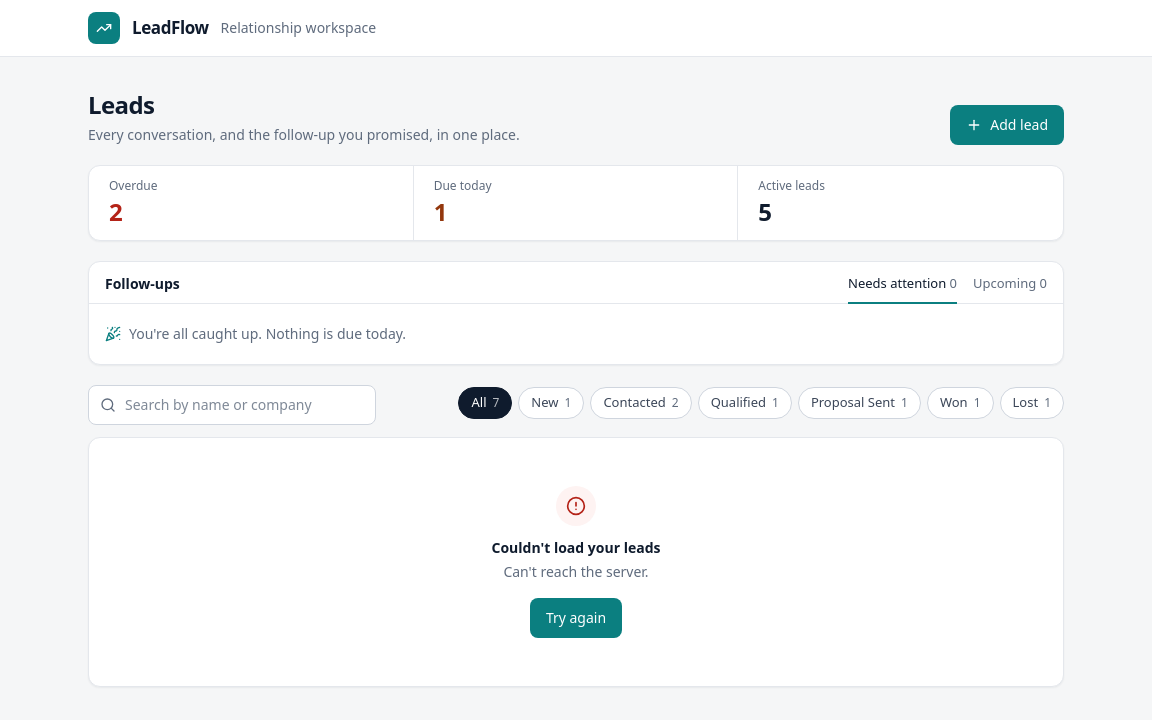
Test case: lead list › shows an error state with a retry that does not invent data
expect the heading "Couldn't load your leads" is shown: met, box [492,538,660,558]
What coordinates should you click on to do the following:
click the button "Try again"
I would click on:
 (576, 618)
Its box is [530,598,622,638].
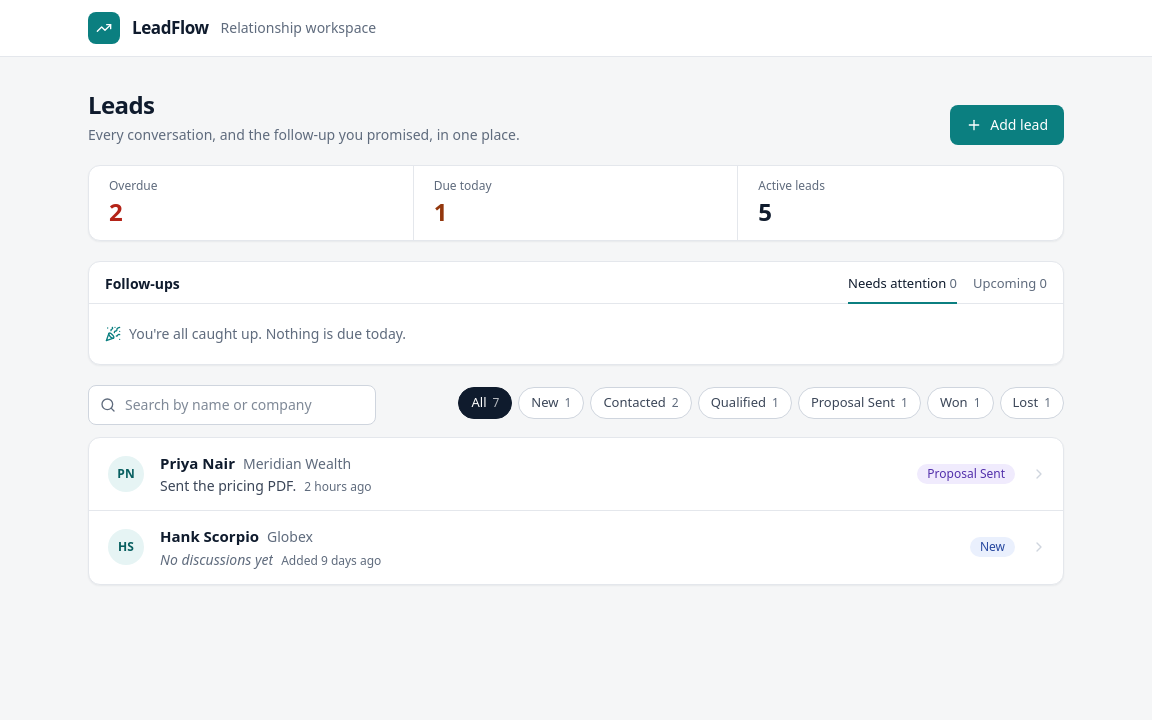
expect the button with aria-label "Open Priya Nair" is shown: met, box [89,438,1063,510]
